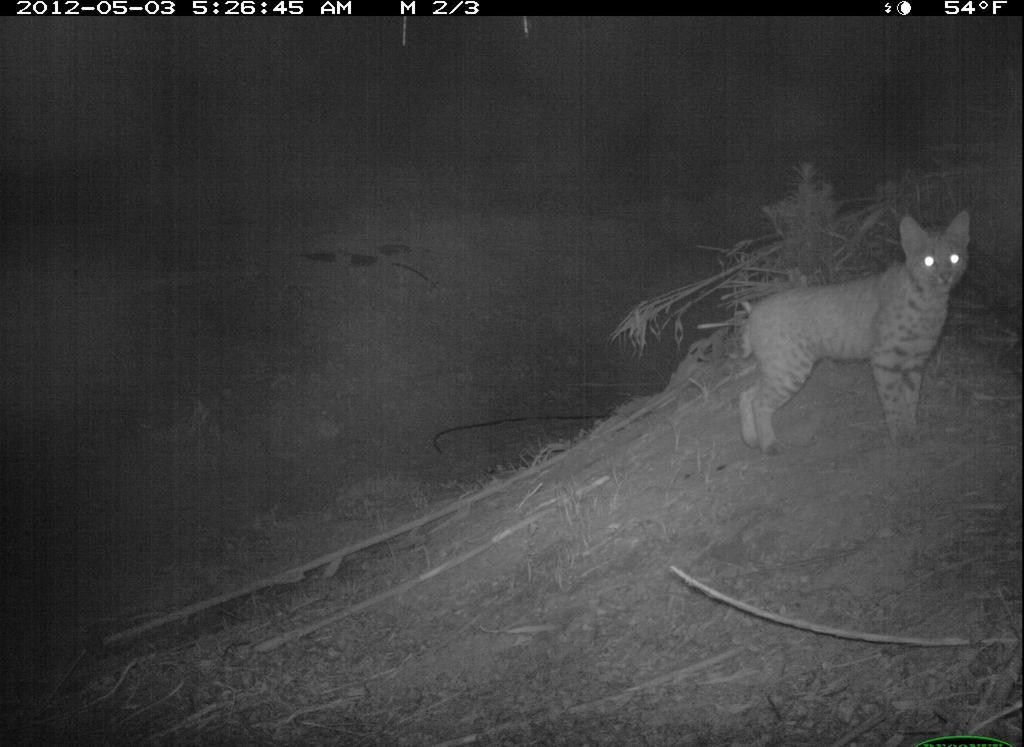bobcat: (720, 199, 999, 461)
